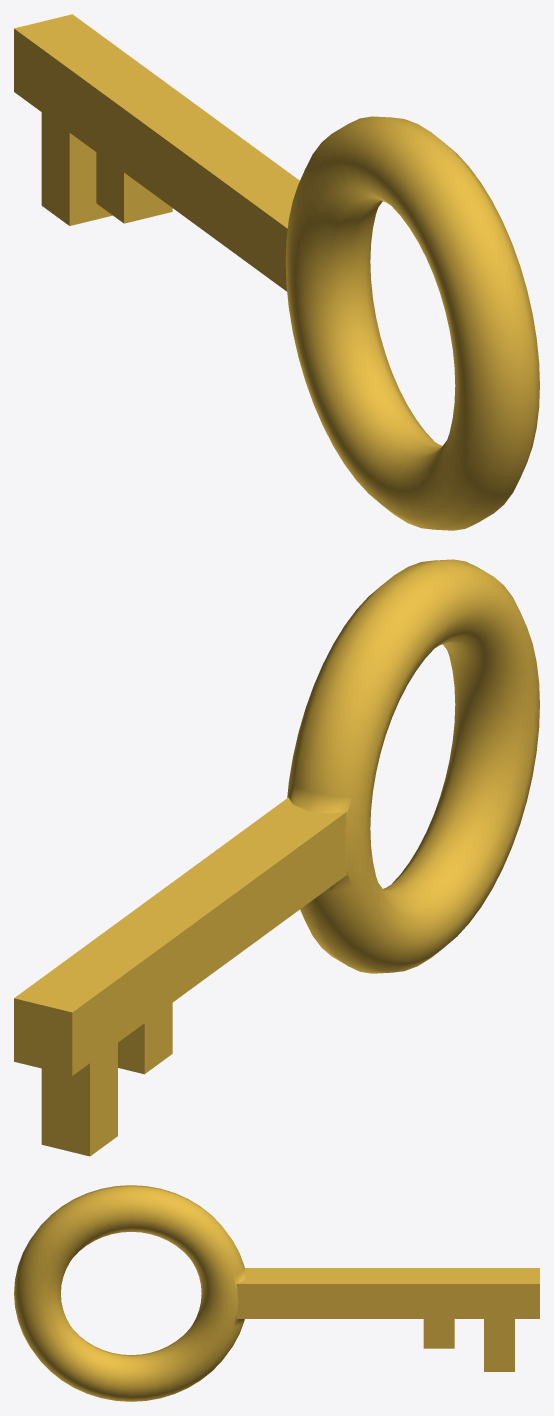
Rendered from key.gltf.
The picture shows the model from 3 angles, top to bottom: view 1: azimuth 30°, elevation 25°; view 2: azimuth 150°, elevation 25°; view 3: azimuth 270°, elevation 25°; orthographic projection. The views are drawn at different scales.
Visible parts, largest first — view 1: Torus; view 2: Torus; view 3: Torus.
Part boxes in pixels (x1,y1,x2,y2): Torus: (14, 14, 539, 530); Torus: (14, 559, 539, 1156); Torus: (14, 1185, 539, 1401).
Bounding box in the file's own units: 0.25 × 1.25 × 2.8.
